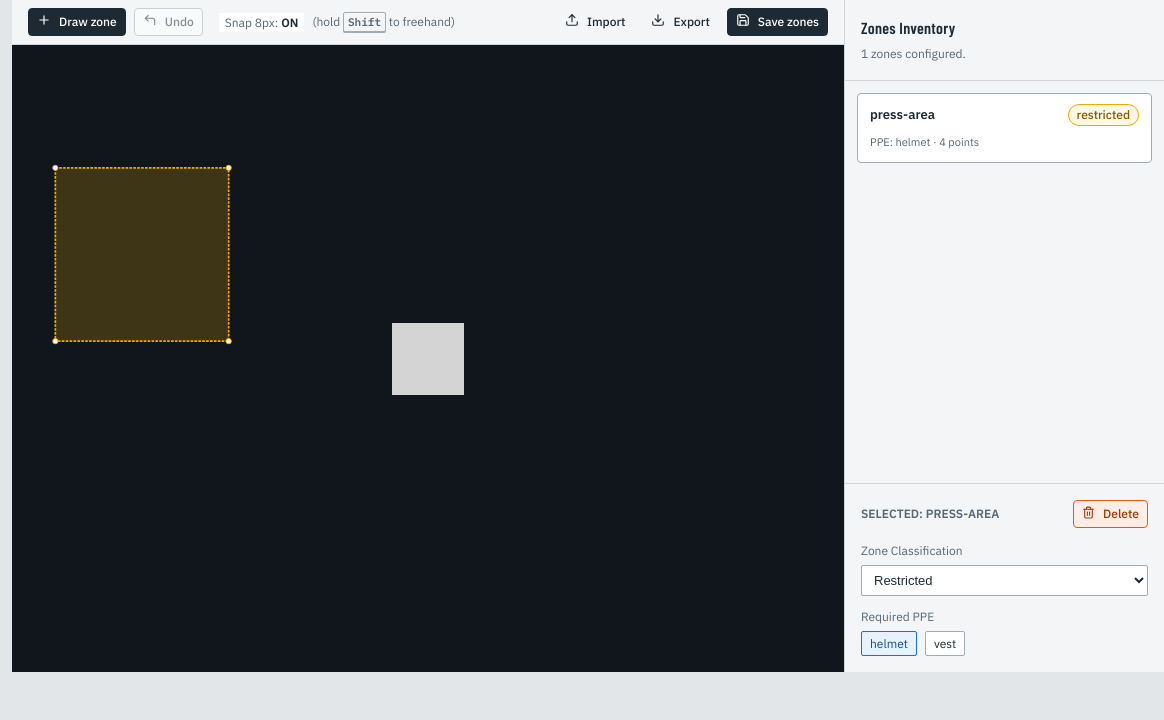
ZoneEditor Component › switches to drawing mode on draw new zone button click
The width and height of the screenshot is (1164, 720).
Click the button "Draw zone": (77, 22) [28,8,126,36]
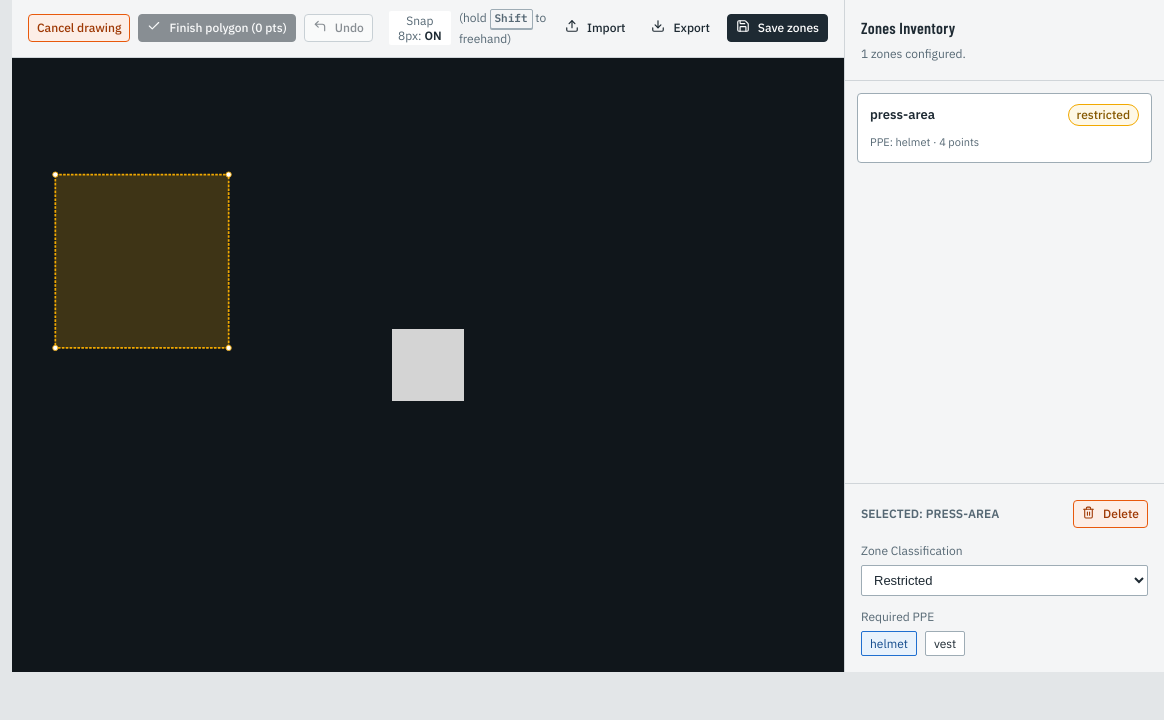
Result: the button "Cancel drawing" is shown at [28,14,130,42]
Result: the button "Finish polygon (0 pts)" is shown at [138,14,296,42]
